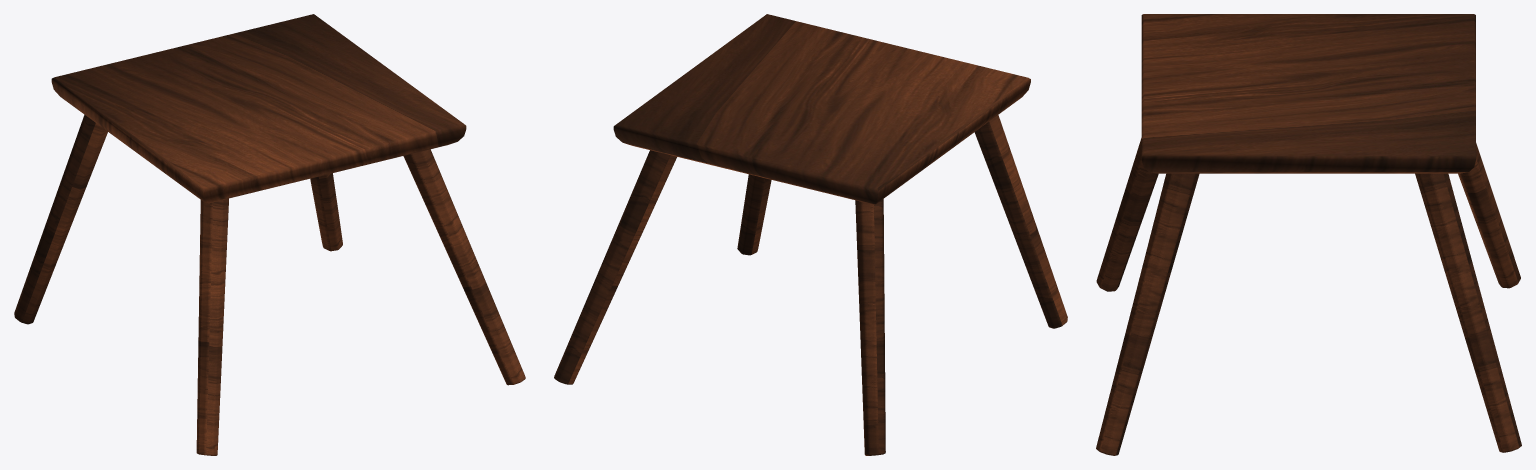
Rendered from Stool.fbx.
The picture shows the model from 3 angles, left to right: view 1: azimuth 30°, elevation 25°; view 2: azimuth 150°, elevation 25°; view 3: azimuth 270°, elevation 25°; orthographic projection. The views are drawn at different scales.
Visible parts, largest first — view 1: Cube, Cylinder.002, Cylinder.001, Cylinder.003, Cylinder; view 2: Cube, Cylinder.003, Cylinder, Cylinder.002, Cylinder.001; view 3: Cube, Cylinder.001, Cylinder, Cylinder.002, Cylinder.003.
Boxes of the visible parts, x1,y1,x2,y2 form: Cube: (51,14,466,203); Cylinder.002: (196,198,228,455); Cylinder.001: (403,149,525,385); Cylinder.003: (14,114,107,324); Cylinder: (310,173,342,251); Cube: (613,14,1030,204); Cylinder.003: (855,199,885,455); Cylinder: (554,150,676,384); Cylinder.002: (974,115,1067,328); Cylinder.001: (737,174,771,255); Cube: (1141,14,1475,173); Cylinder.001: (1096,173,1199,455); Cylinder: (1415,173,1521,452); Cylinder.002: (1096,138,1158,291); Cylinder.003: (1458,143,1520,288).
Size of the model in its own units: 249 by 187 by 255.
1 material, 1 textured.
